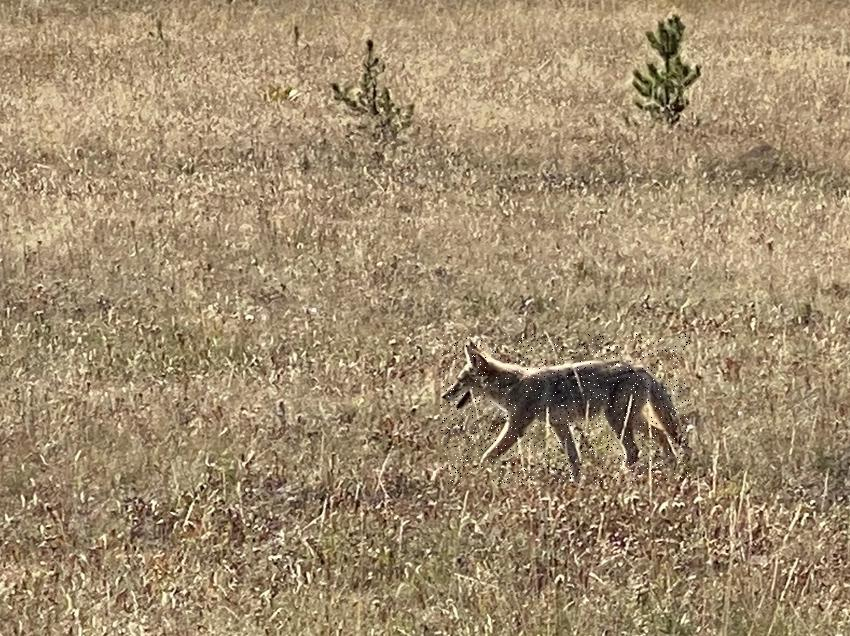Coyote: (440, 334, 690, 484)
